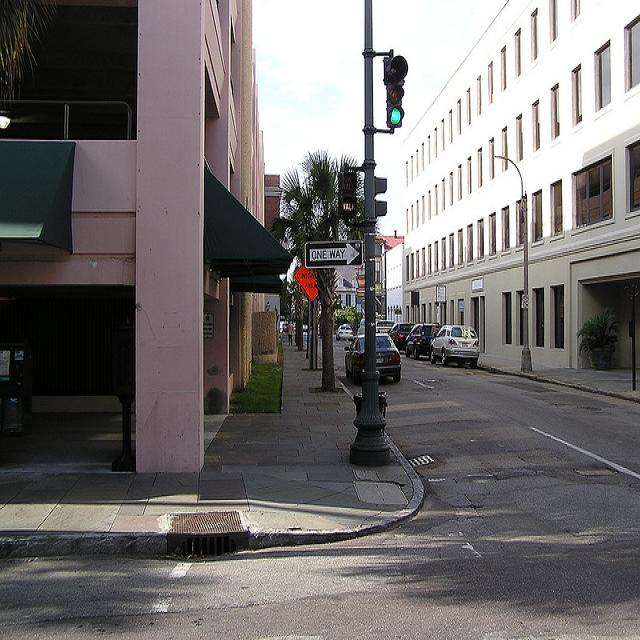Vehicle: (345, 332, 401, 383), (430, 325, 480, 368), (405, 323, 441, 360), (389, 322, 416, 353), (336, 326, 353, 342), (376, 320, 394, 332), (357, 327, 365, 335)
